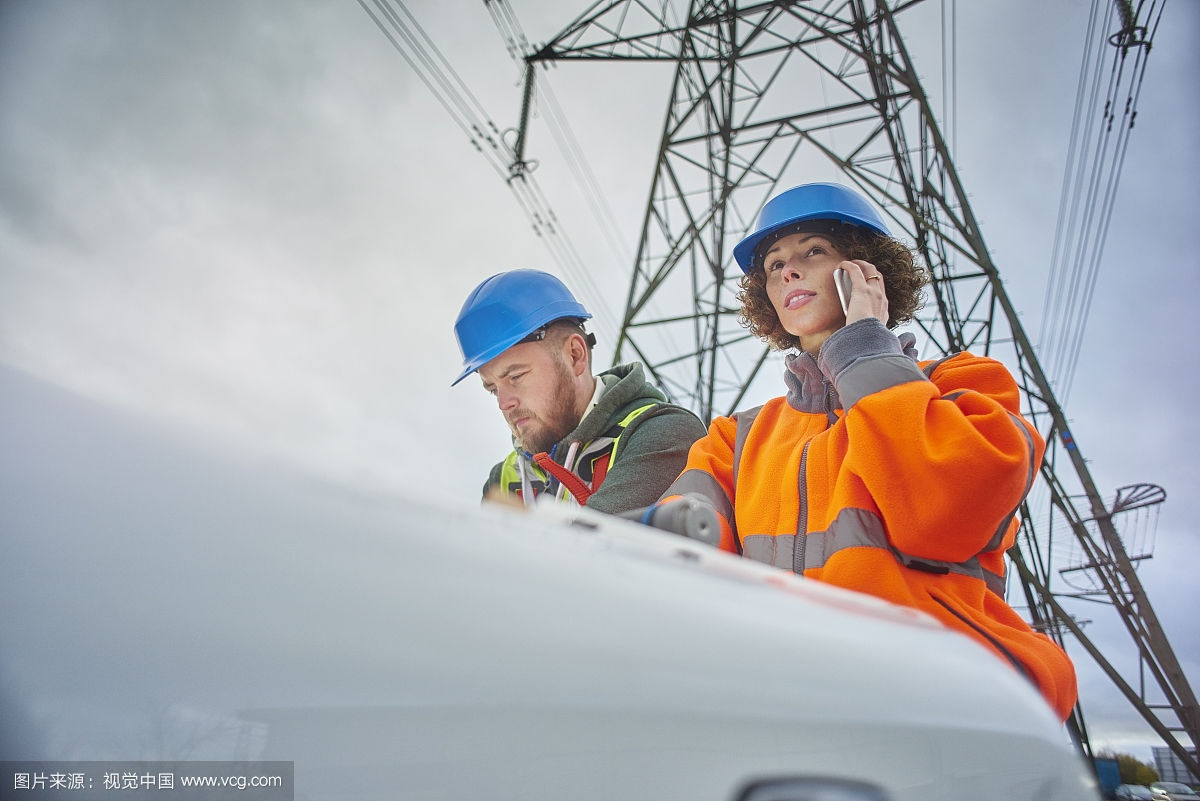blue: (451, 260, 610, 451), (730, 178, 901, 351)
